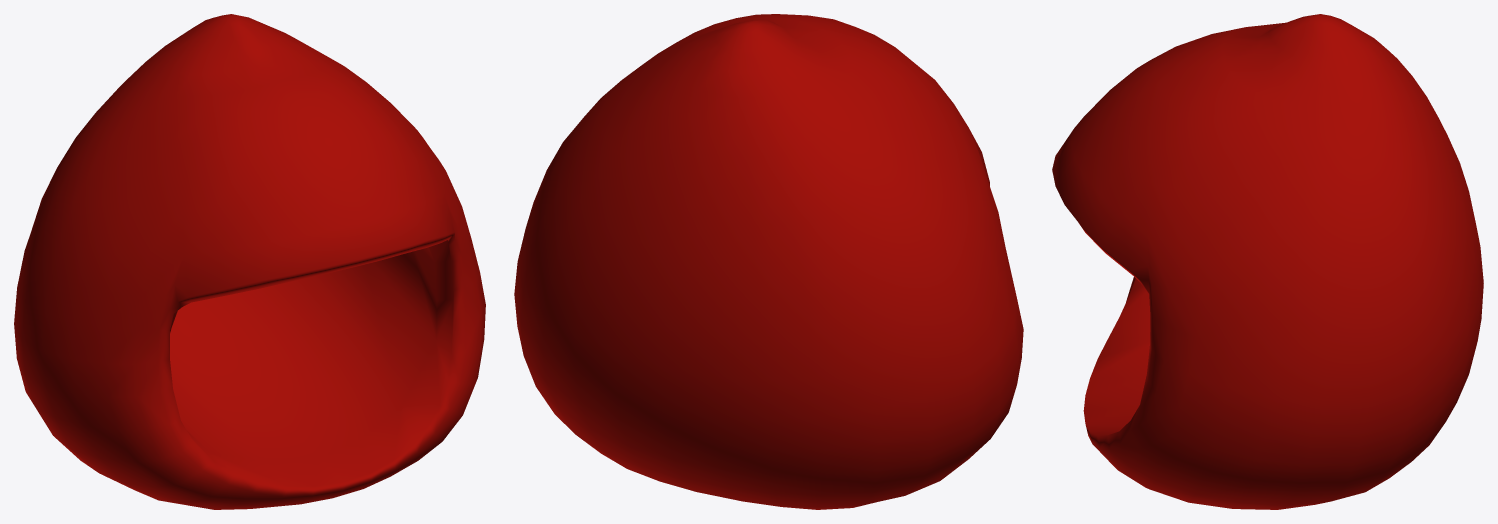
Rendered from CapBangsCowl0.glb.
3 renders of one model, left to right at view 1: azimuth 30°, elevation 25°; view 2: azimuth 150°, elevation 25°; view 3: azimuth 270°, elevation 25°, orthographic. The views are drawn at different scales.
Visible parts, largest first — view 1: Body__mCap; view 2: Body__mCap; view 3: Body__mCap.
Part boxes in pixels (x1,y1,x2,y2): Body__mCap: (14, 14, 485, 509); Body__mCap: (514, 14, 1023, 509); Body__mCap: (1052, 14, 1483, 509).
Size of the model in its own units: 9 by 8.68 by 7.76.
Materials: 1 (1 with a texture image).
